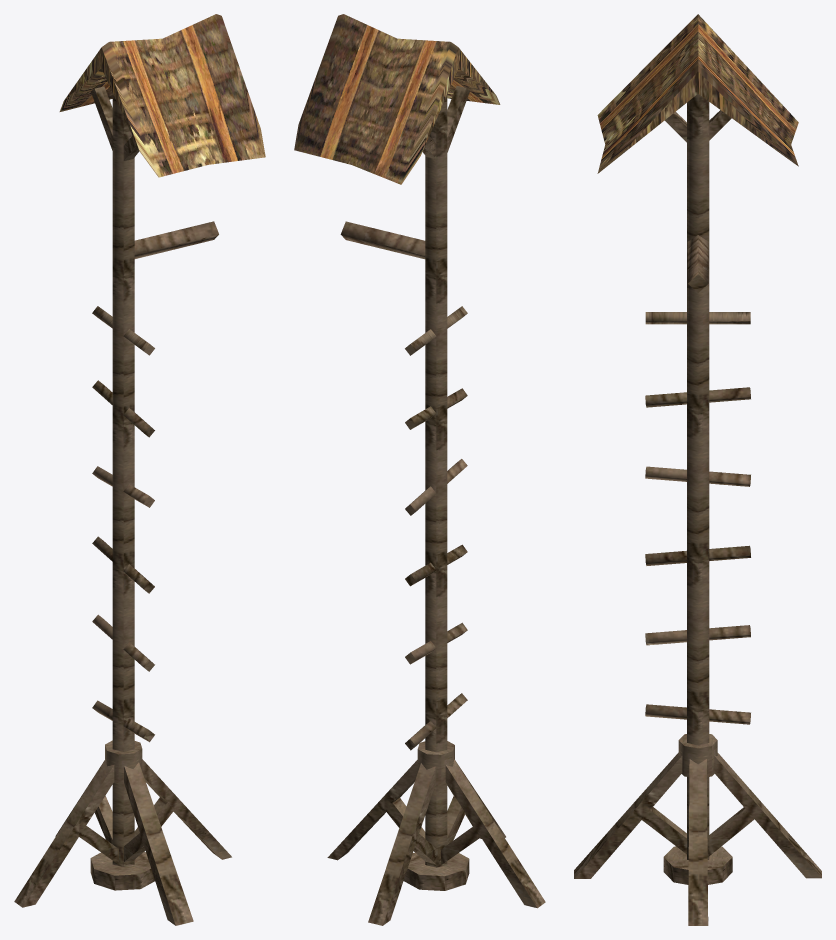
File: building_falcon_post.glb
3 views of the same model, side by side, from view 1: azimuth 30°, elevation 25°; view 2: azimuth 150°, elevation 25°; view 3: azimuth 270°, elevation 25° (orthographic).
Visible parts, largest first — view 1: building_falcon_post; view 2: building_falcon_post; view 3: building_falcon_post.
Part boxes in pixels (x1=…): building_falcon_post: x1=14, y1=14, x2=265, y2=925; building_falcon_post: x1=294, y1=14, x2=545, y2=925; building_falcon_post: x1=574, y1=14, x2=821, y2=925.
Size of the model in its own units: 1.52 by 5.86 by 1.54.
2 materials, 2 textured.
